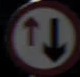Two way: (11, 5, 76, 65)
